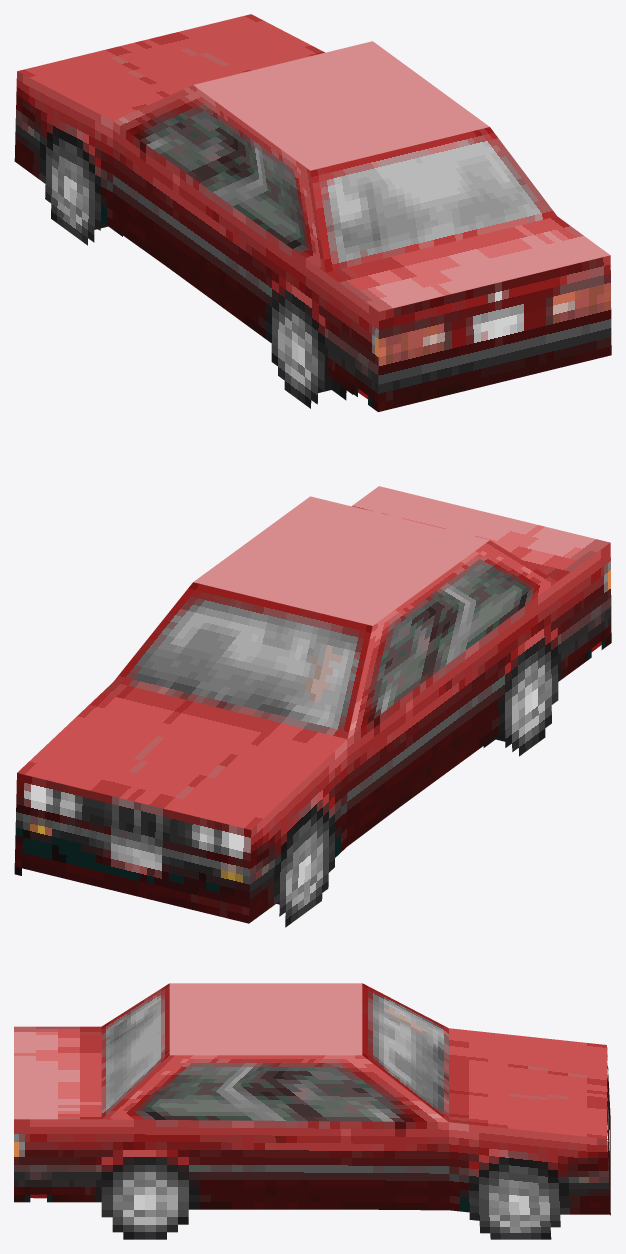
The model's file is car-bmw-plt1.glb.
3 renders of one model, top to bottom at view 1: azimuth 30°, elevation 25°; view 2: azimuth 150°, elevation 25°; view 3: azimuth 270°, elevation 25°, orthographic. The views are drawn at different scales.
Parts seen in each view (by area): view 1: car-bmw-plt1; view 2: car-bmw-plt1; view 3: car-bmw-plt1.
Boxes of the visible parts, x1,y1,x2,y2 form: car-bmw-plt1: [14, 14, 611, 411]; car-bmw-plt1: [14, 486, 611, 927]; car-bmw-plt1: [14, 983, 610, 1239].
Size of the model in its own units: 1.41 by 1.21 by 3.78.
Materials: 15 (15 with a texture image).
